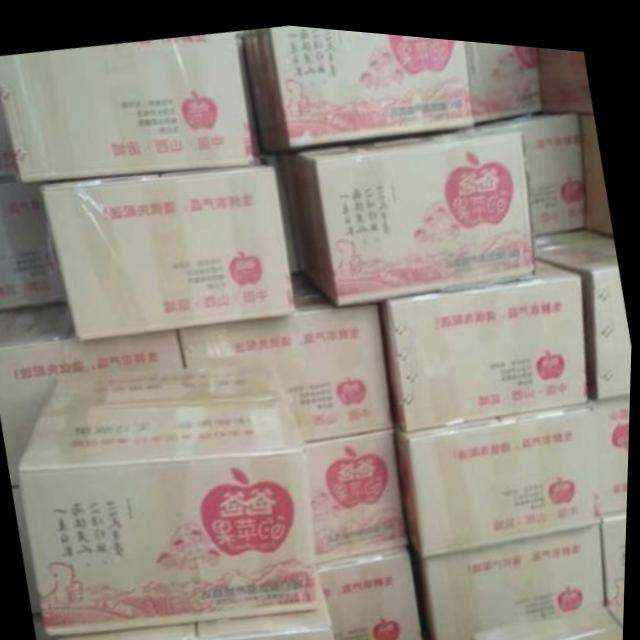box: (21, 360, 323, 631), (280, 117, 537, 299), (39, 160, 297, 340), (0, 27, 266, 184), (377, 242, 593, 427), (179, 266, 401, 438), (0, 302, 186, 486), (395, 388, 600, 551), (239, 20, 473, 150), (409, 512, 612, 640), (63, 561, 339, 640), (531, 218, 633, 390), (470, 100, 586, 231), (307, 420, 413, 558), (318, 537, 429, 640), (0, 180, 70, 311), (472, 592, 627, 640), (464, 32, 541, 119), (592, 380, 632, 509), (578, 102, 615, 228), (538, 38, 594, 103), (602, 502, 629, 595)
